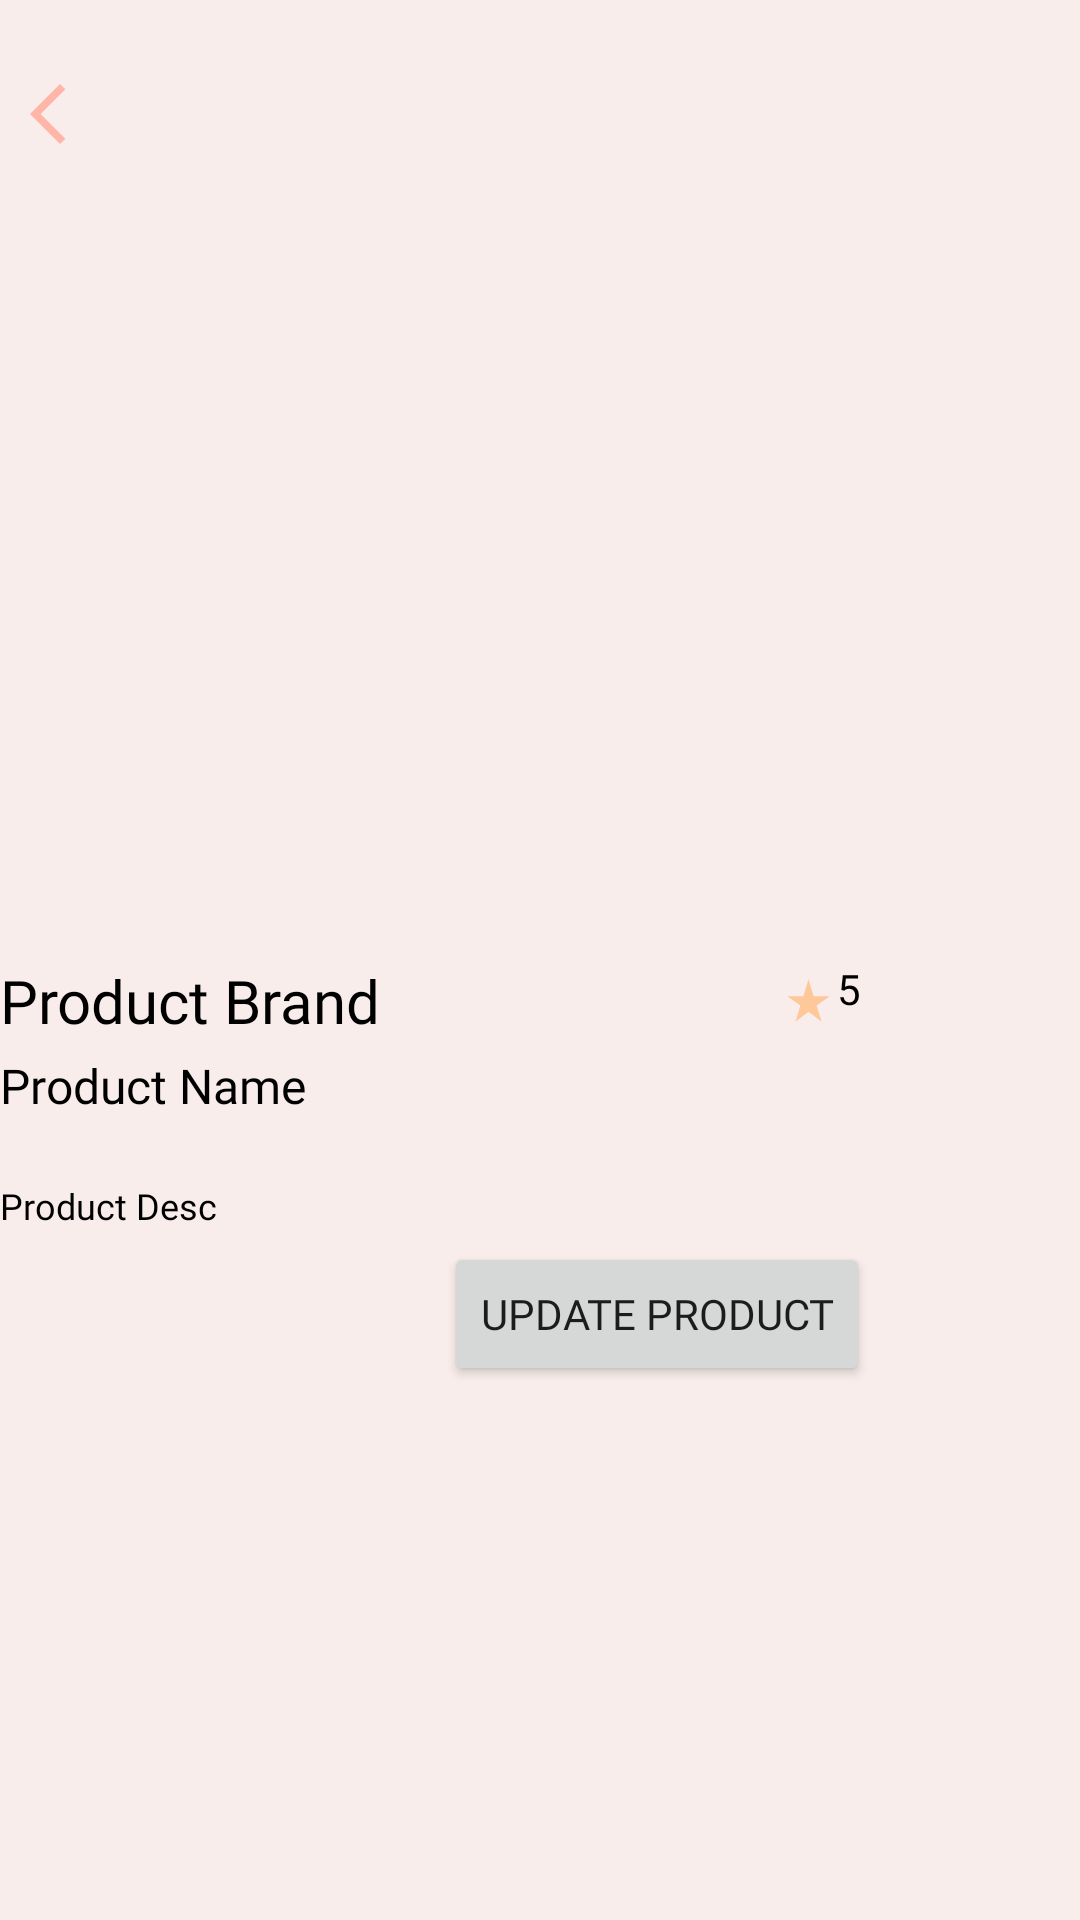

Where to tap for icons on this 1080 × 1920 app screen, as point (x, y):
back: point (47, 114)
